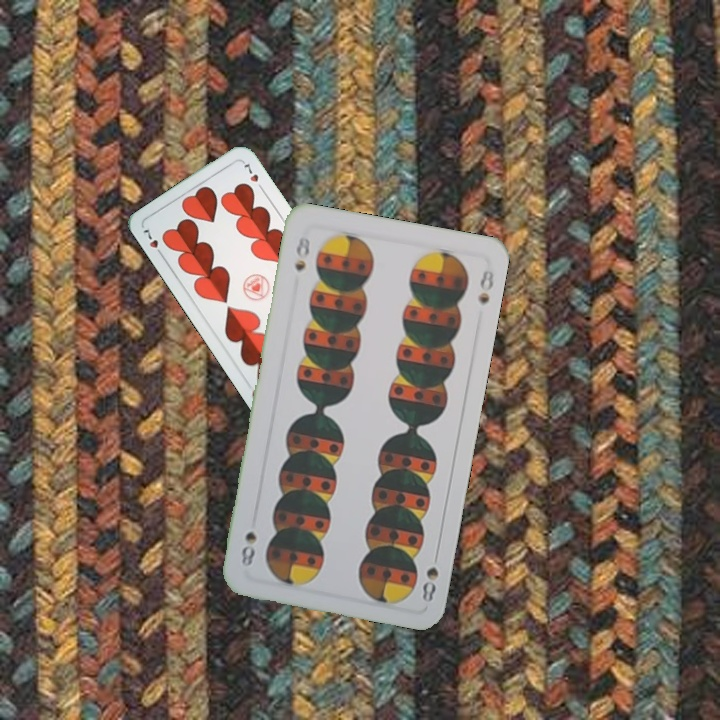H7: (139, 225, 166, 260)
S8: (418, 546, 442, 604), (290, 232, 313, 274)
